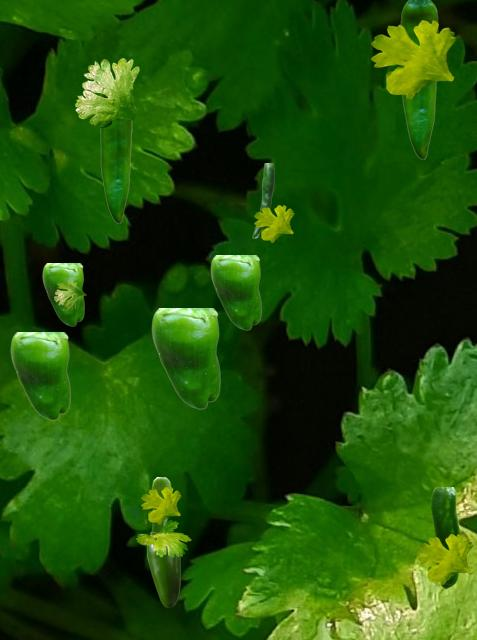green_chili: (151, 308, 219, 408), (400, 0, 437, 158), (10, 332, 69, 419), (99, 94, 131, 222), (210, 255, 260, 329), (431, 487, 458, 587), (42, 263, 83, 325), (147, 532, 179, 606), (252, 163, 273, 237), (151, 477, 170, 531)
